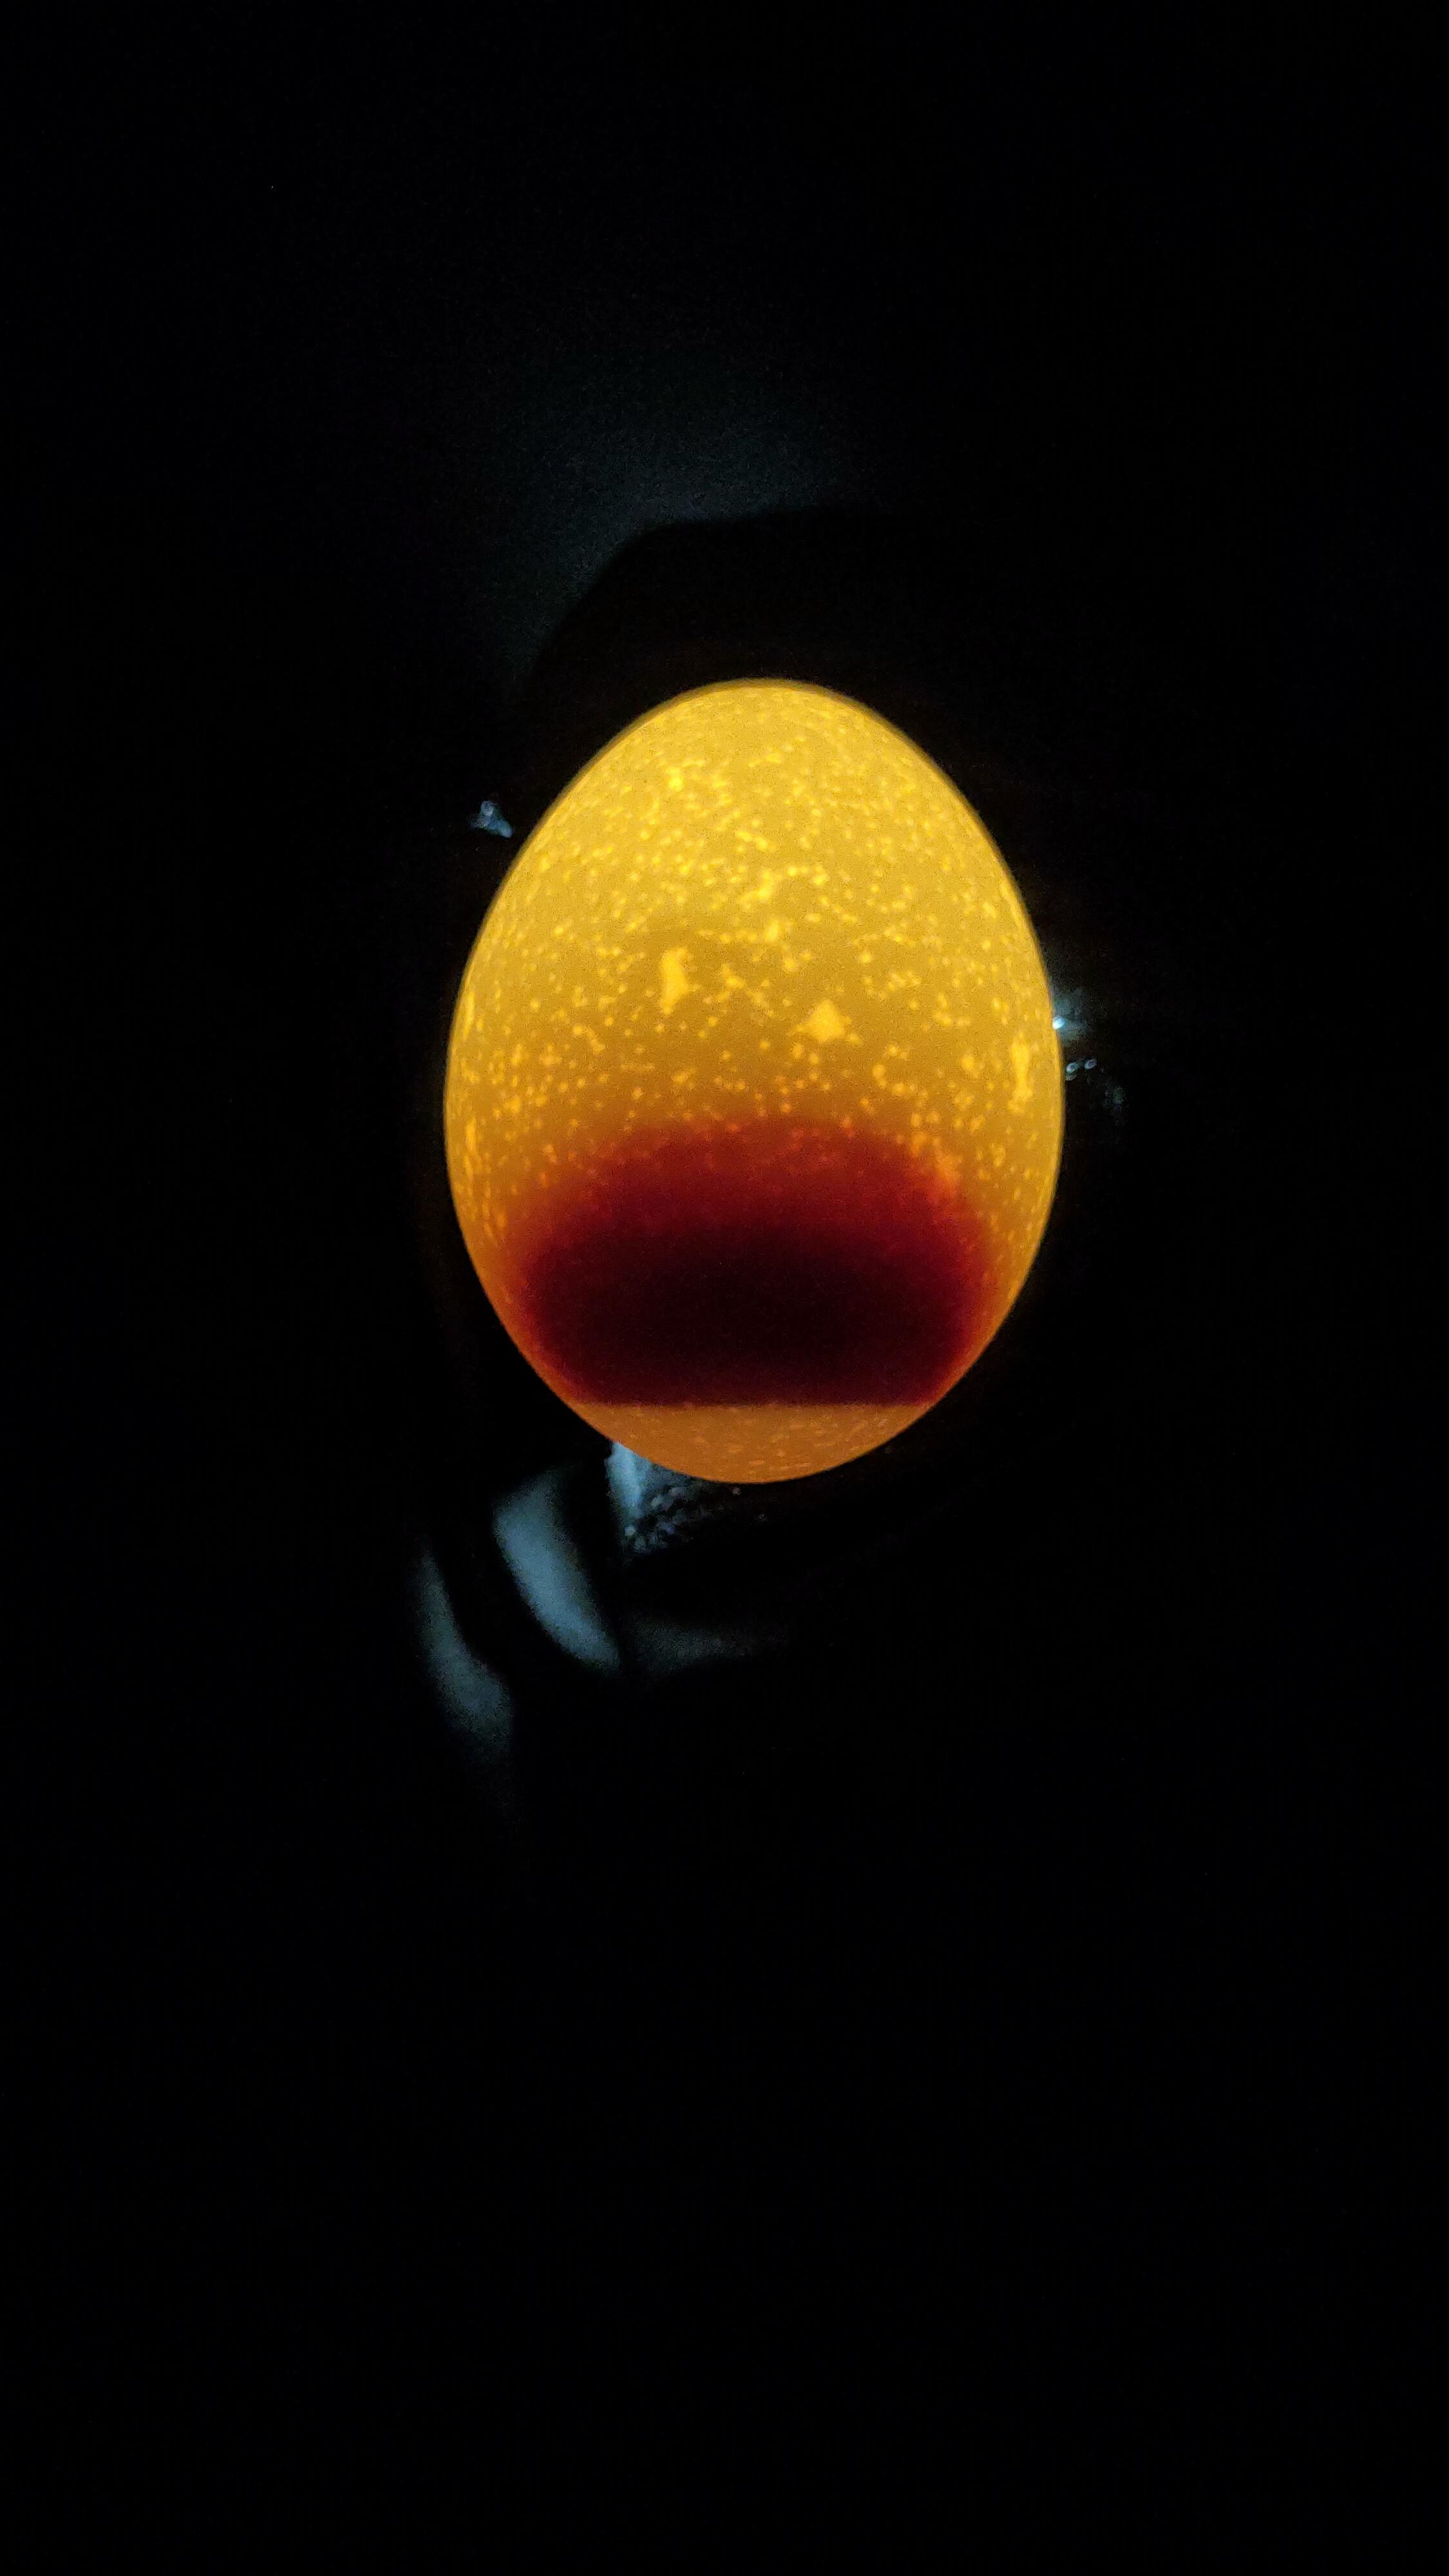AA - Premium: (425, 656, 1095, 1527)
